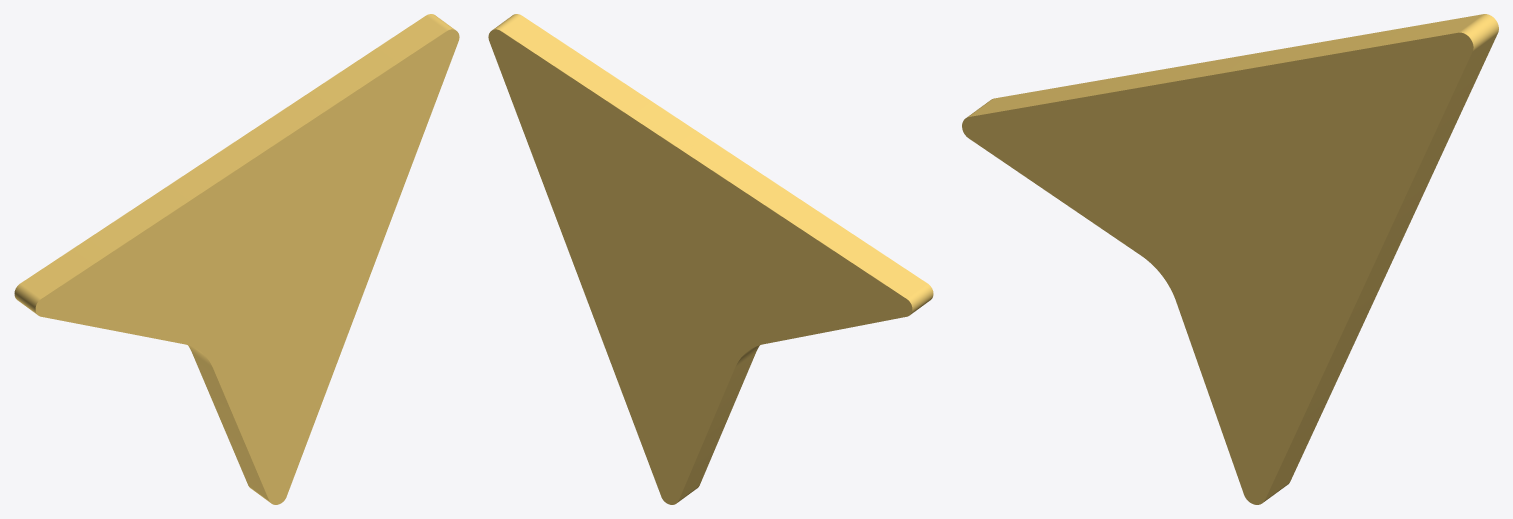
Rendered from send.glb.
The picture shows the model from 3 angles, left to right: view 1: azimuth 30°, elevation 25°; view 2: azimuth 150°, elevation 25°; view 3: azimuth 330°, elevation 25°; orthographic projection. The views are drawn at different scales.
Parts seen in each view (by area): view 1: Shape; view 2: Shape; view 3: Shape.
Part boxes in pixels (box(x1,y1,x2,y2)): Shape: box(14, 14, 459, 504); Shape: box(488, 14, 933, 504); Shape: box(962, 14, 1498, 504).
Size of the model in its own units: 5.81 by 5.67 by 0.5.
